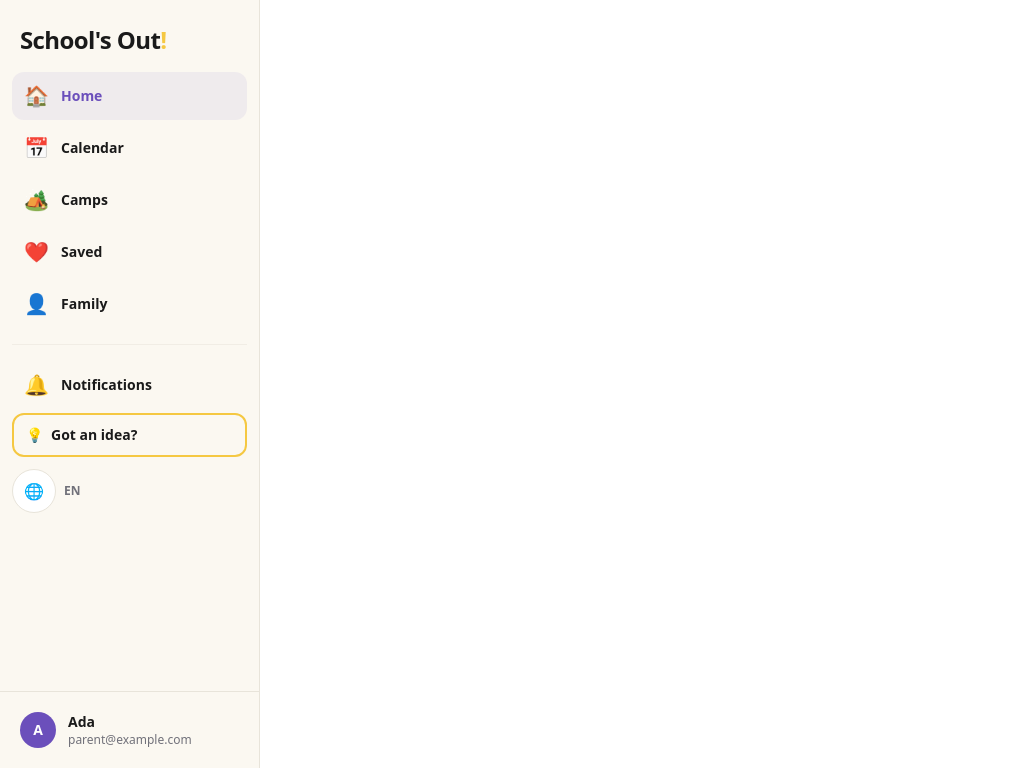
Test case: app/SideNav › closes the NotificationsDrawer when the close button is clicked
Click the button with aria-label "open notifications".
click(130, 385)  # box [12,361,247,409]
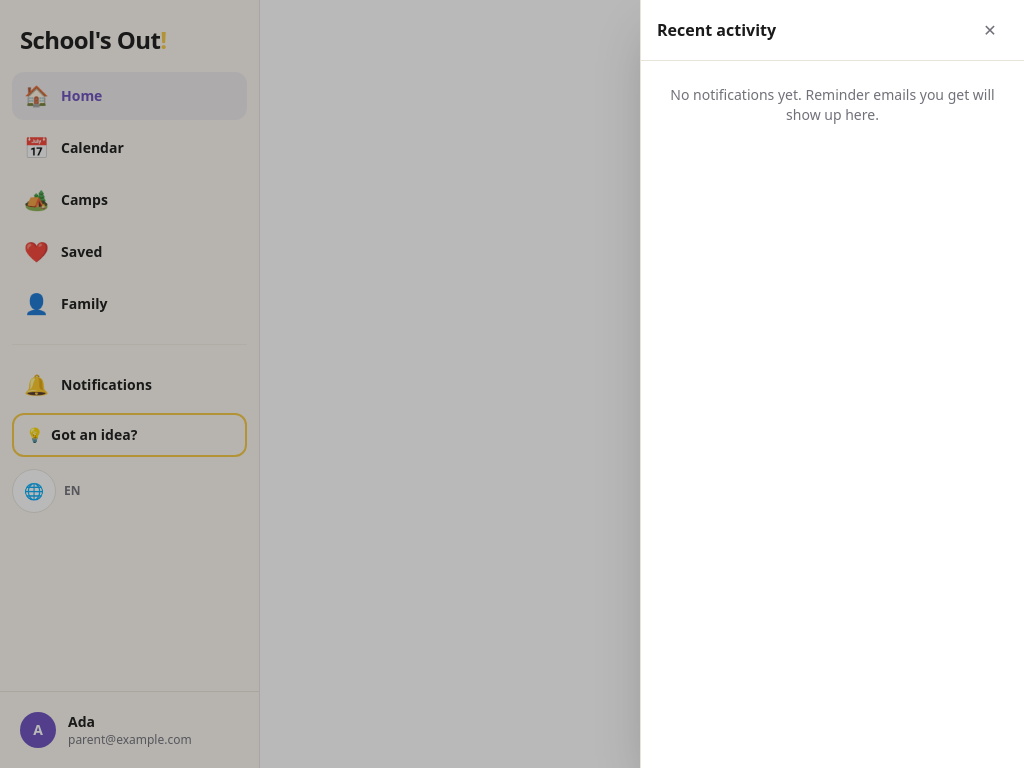
Check: the dialog is shown, box [640,0,1023,767]
Click the button named "close".
click(990, 30)  # box [972,12,1008,48]
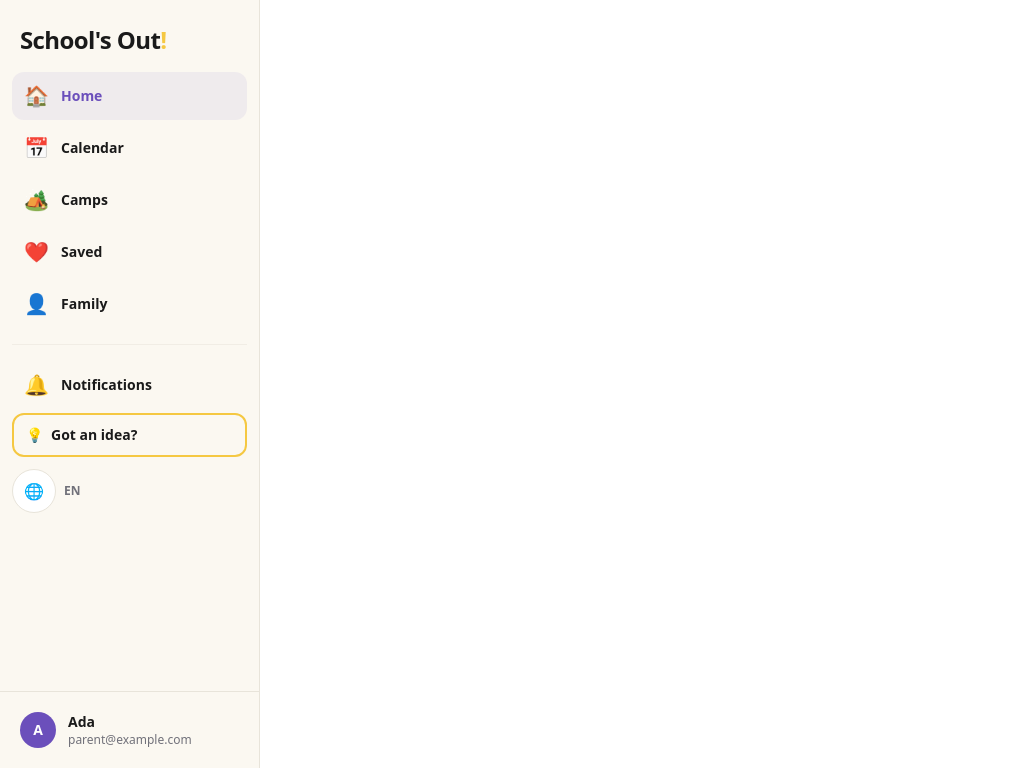
Check: the dialog is gone
Check: the button with aria-label "open notifications" is collapsed, box [12,361,247,409]
